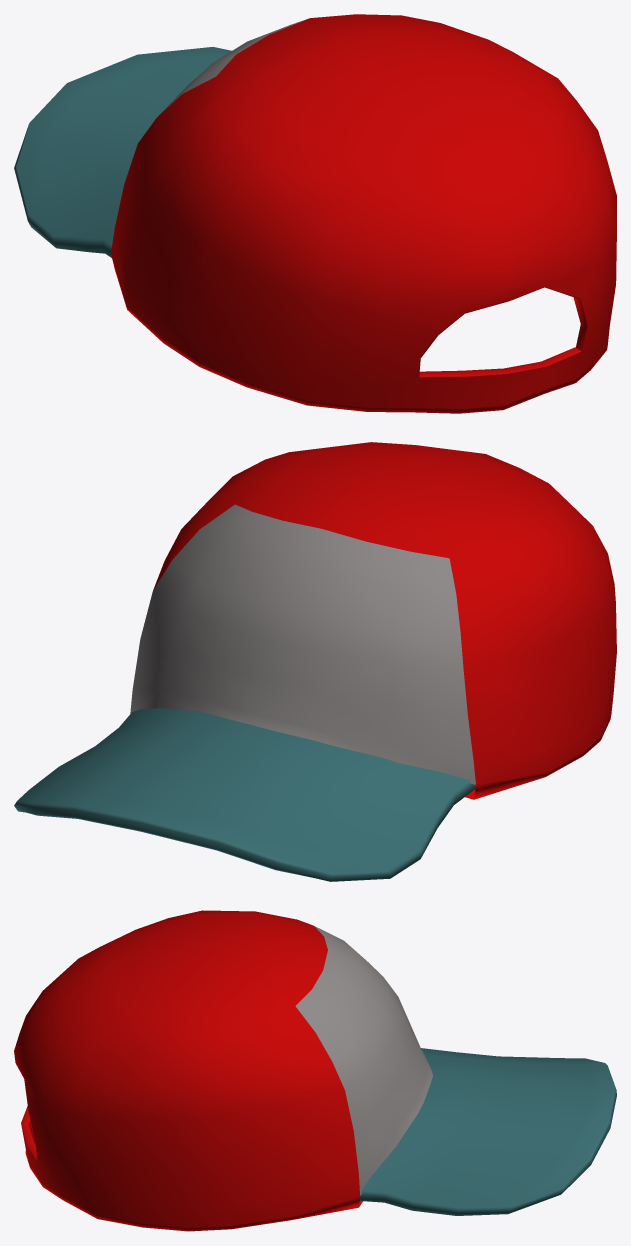
File: asset.glb
The picture shows the model from 3 angles, top to bottom: view 1: azimuth 30°, elevation 25°; view 2: azimuth 150°, elevation 25°; view 3: azimuth 270°, elevation 25°; orthographic projection. The views are drawn at different scales.
Visible parts, largest first — view 1: polySurface2, polySurface3; view 2: polySurface2, polySurface3; view 3: polySurface2, polySurface3.
Part boxes in pixels (x1,y1,x2,y2): polySurface2: (111,14,616,413); polySurface3: (14,47,231,257); polySurface2: (130,442,616,799); polySurface3: (14,708,475,881); polySurface2: (14,910,432,1231); polySurface3: (359,1048,616,1215).
Size of the model in its own units: 0.3248 by 0.2049 by 0.5086.
